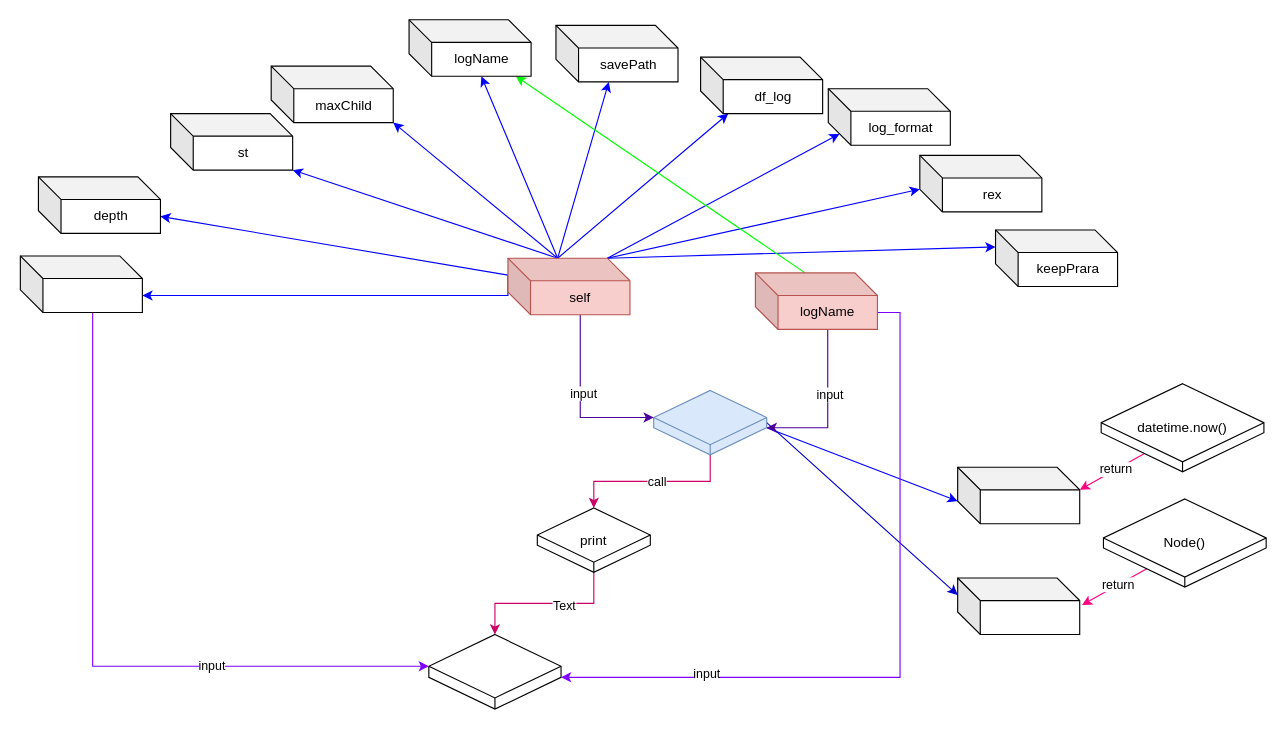
Image size: 1286x729. Some labels were removed from this diagram. Each missing label, with the box of its shape:
os.path.join: (428, 633, 561, 709)
parse: (653, 389, 767, 455)
path: (19, 255, 142, 312)
rootNode: (957, 577, 1080, 634)
startTime: (957, 466, 1080, 524)
